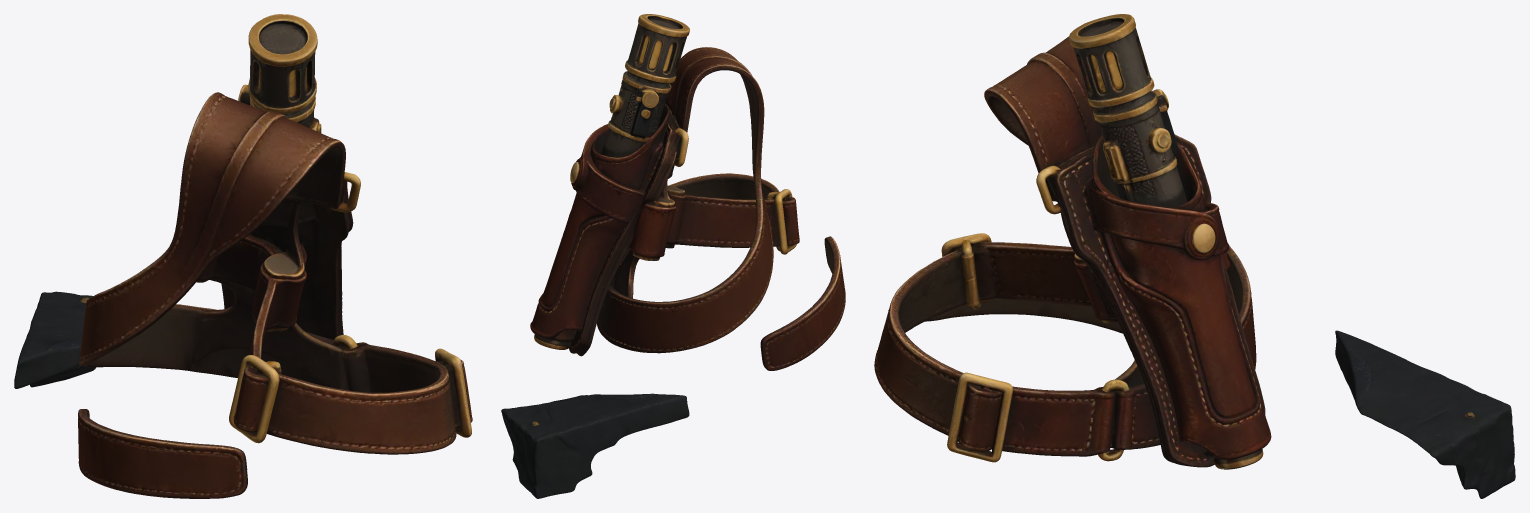
The model's file is sidearm-holster.glb.
3 renders of one model, left to right at view 1: azimuth 30°, elevation 25°; view 2: azimuth 150°, elevation 25°; view 3: azimuth 270°, elevation 25°, orthographic. The views are drawn at different scales.
Visible parts, largest first — view 1: tripo_node_d01565db-04ea-4e74-9348-14499e75b79c; view 2: tripo_node_d01565db-04ea-4e74-9348-14499e75b79c; view 3: tripo_node_d01565db-04ea-4e74-9348-14499e75b79c.
Boxes of the visible parts, x1,y1,x2,y2 form: tripo_node_d01565db-04ea-4e74-9348-14499e75b79c: [14, 14, 472, 498]; tripo_node_d01565db-04ea-4e74-9348-14499e75b79c: [501, 14, 845, 498]; tripo_node_d01565db-04ea-4e74-9348-14499e75b79c: [874, 14, 1515, 498].
Bounding box in the file's own units: 0.5801 × 0.8304 × 0.9999.
Materials: 1 (1 with a texture image).
